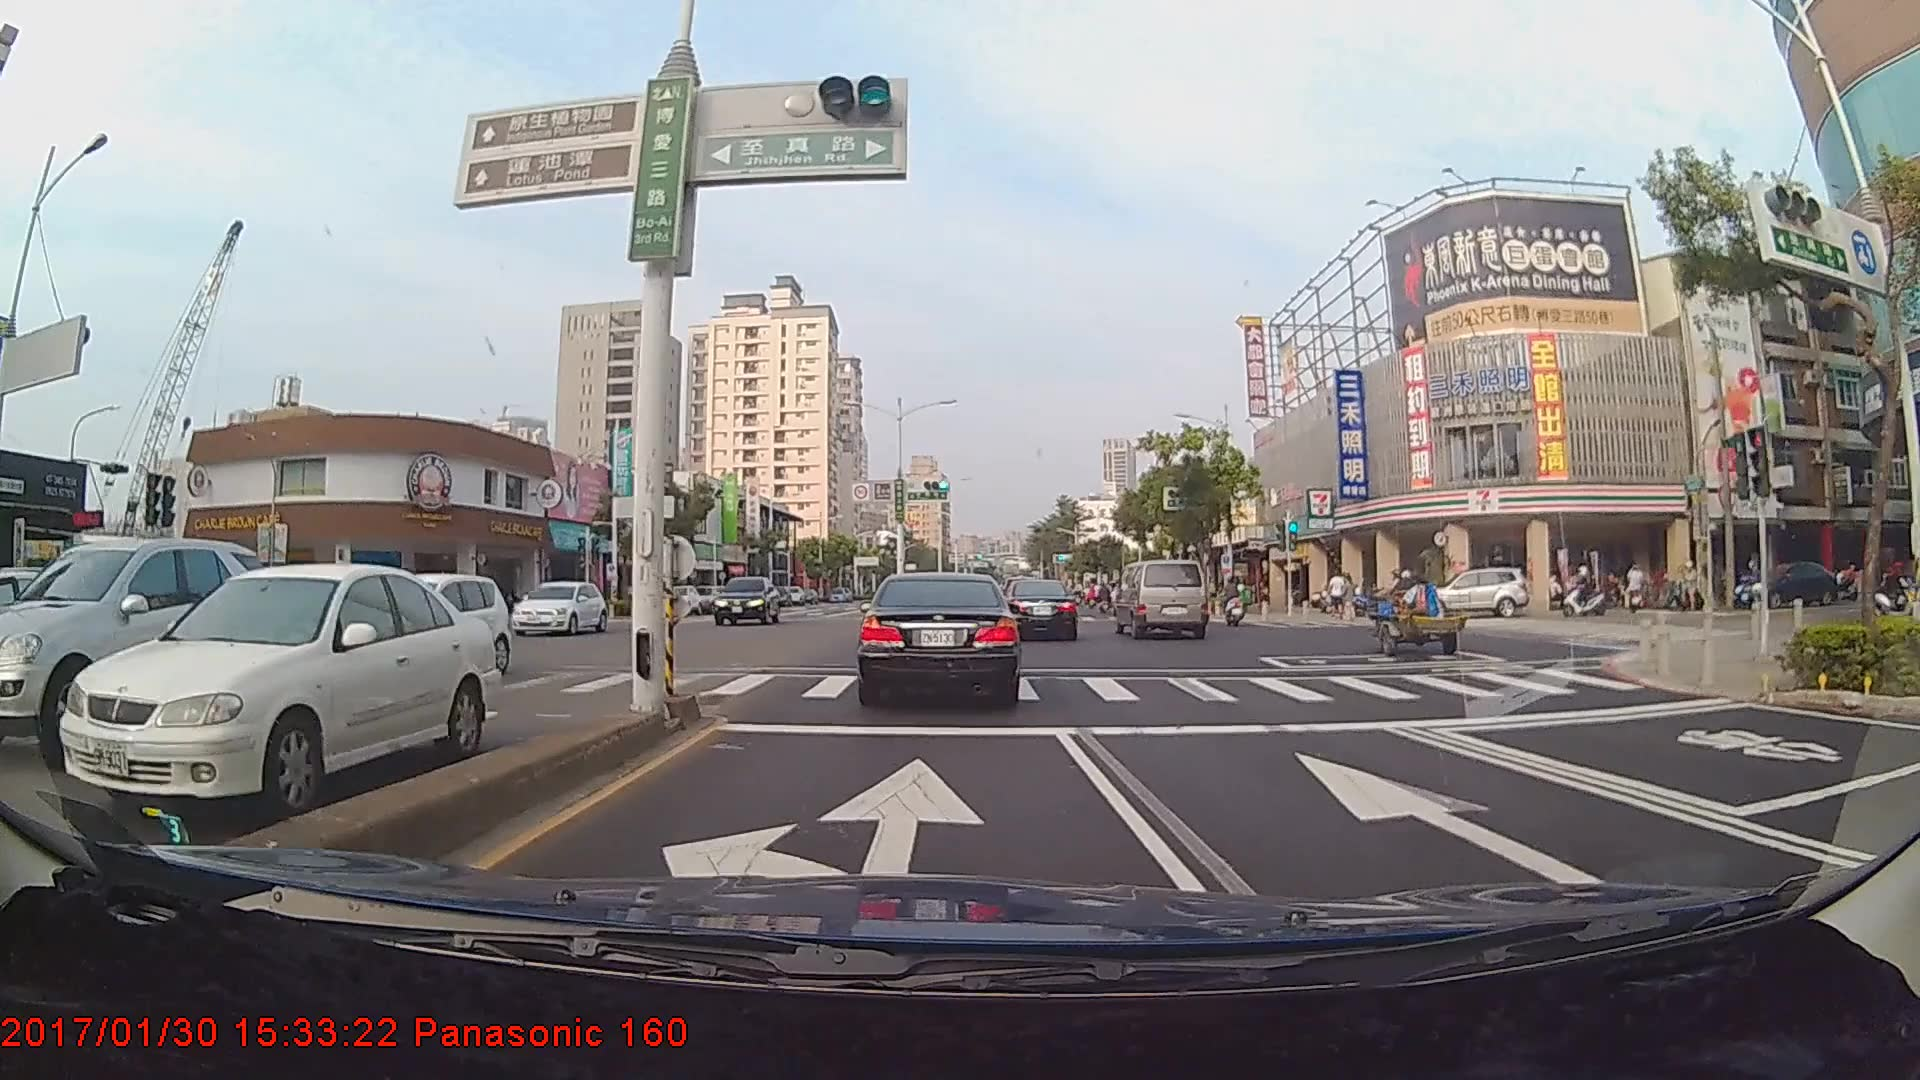pedestrian: (1328, 570, 1348, 620)
rider: (1557, 562, 1617, 624), (1214, 578, 1251, 631)
vehicle: (69, 556, 479, 825), (0, 534, 274, 752), (859, 565, 1020, 706), (332, 569, 510, 680), (0, 562, 70, 706), (1116, 559, 1210, 640), (1408, 570, 1528, 621), (505, 580, 604, 637), (1004, 578, 1079, 641), (711, 576, 779, 626)
